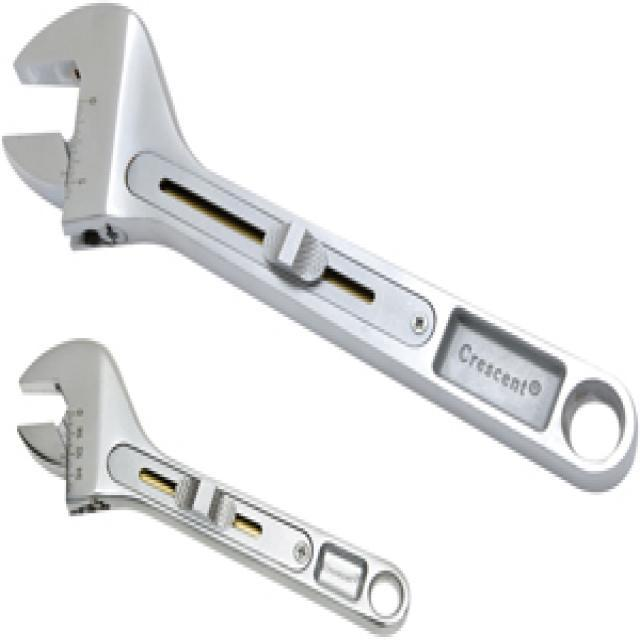wrench: (0, 0, 638, 495), (0, 328, 414, 639)
